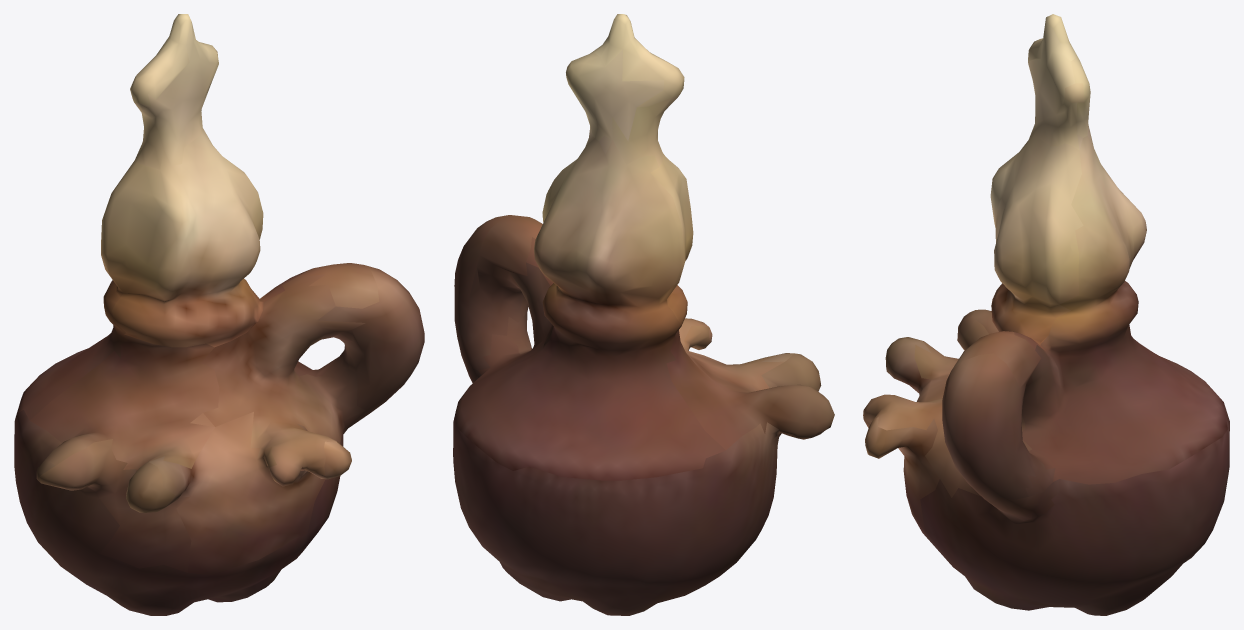
Rendered from v19_lamparina.glb.
The picture shows the model from 3 angles, left to right: view 1: azimuth 30°, elevation 25°; view 2: azimuth 150°, elevation 25°; view 3: azimuth 270°, elevation 25°; orthographic projection.
Parts seen in each view (by area): view 1: v19_lamparina; view 2: v19_lamparina; view 3: v19_lamparina.
Part boxes in pixels (box(x1,y1,x2,y2)): v19_lamparina: box(14, 14, 424, 615); v19_lamparina: box(453, 14, 834, 615); v19_lamparina: box(863, 14, 1229, 615).
Size of the model in its own units: 0.3095 by 0.4523 by 0.2593.
Materials: 1 (1 with a texture image).
